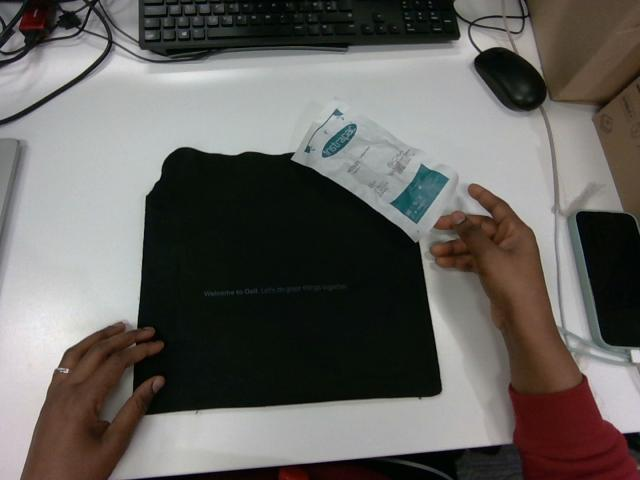gallipot: (292, 99, 457, 241)
